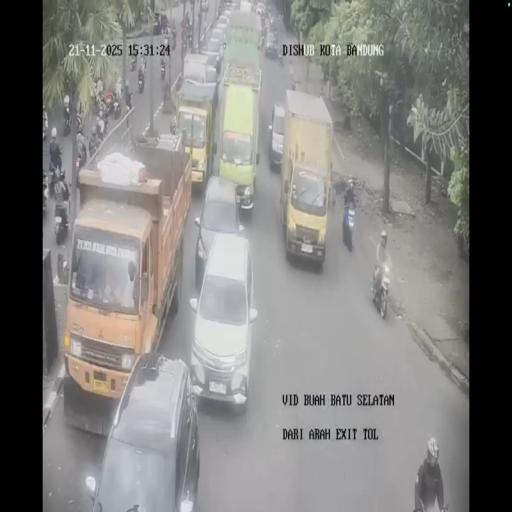3: (64, 137, 189, 409), (279, 88, 334, 266), (215, 70, 261, 210), (172, 58, 220, 191), (222, 6, 262, 76)
car: (188, 232, 258, 407), (268, 103, 285, 169), (204, 34, 225, 73), (264, 32, 278, 58), (222, 0, 236, 15), (256, 2, 264, 16), (199, 0, 208, 11)
truck: (372, 262, 391, 318), (342, 201, 356, 251), (53, 203, 69, 244), (48, 157, 62, 194), (94, 120, 106, 146), (76, 144, 86, 175), (62, 107, 72, 136), (92, 96, 104, 118), (42, 179, 48, 216), (76, 109, 84, 133), (42, 107, 48, 139), (164, 25, 172, 48), (112, 97, 120, 119), (278, 45, 286, 66), (163, 80, 170, 104), (125, 92, 133, 112), (138, 68, 144, 93), (181, 33, 187, 57), (152, 20, 161, 36), (258, 30, 265, 50), (160, 59, 166, 80), (187, 27, 193, 47), (290, 75, 298, 90), (130, 56, 137, 71), (142, 54, 147, 70), (171, 35, 176, 50)
